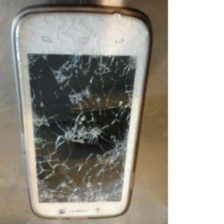phone: (8, 0, 157, 222)
